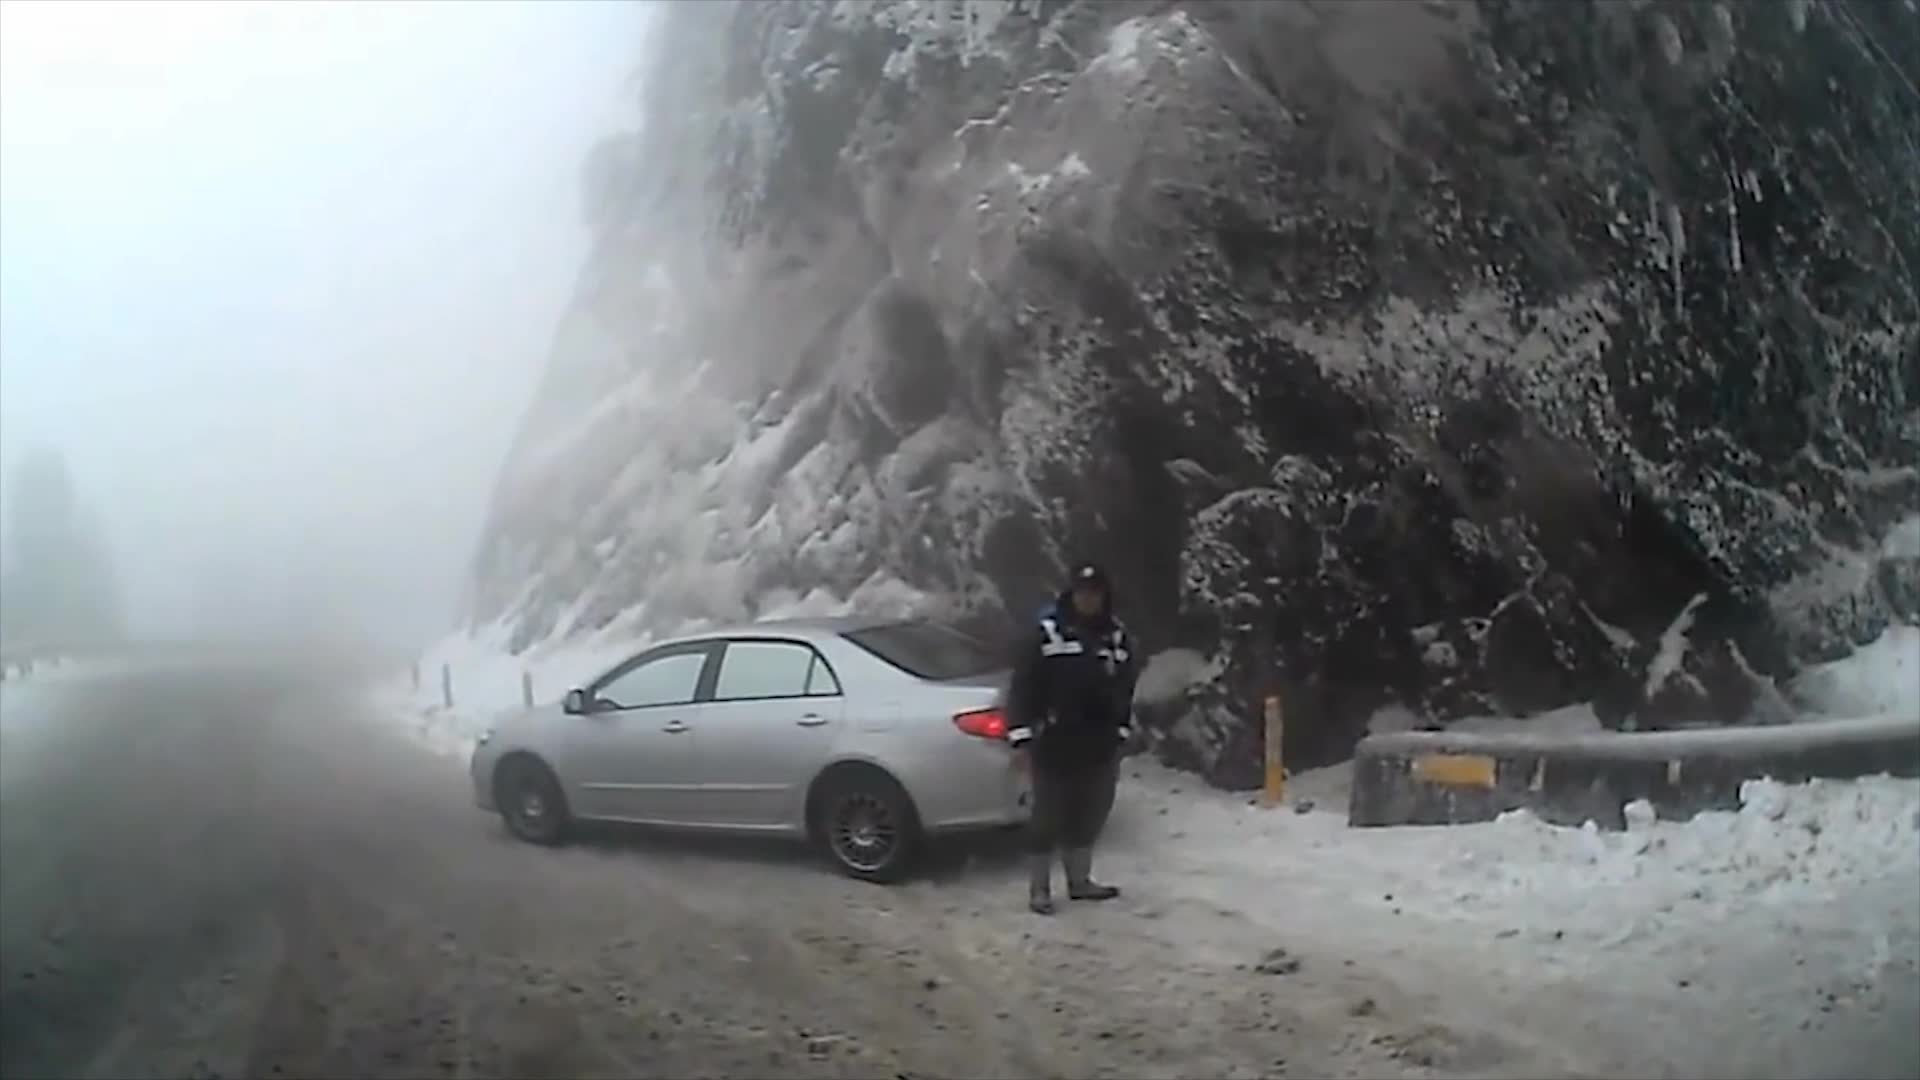pedestrian: (1016, 570, 1146, 920)
vehicle: (471, 614, 1121, 884)
